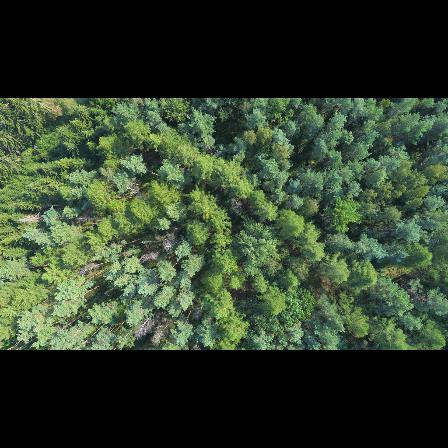Dead: (149, 322, 172, 347), (132, 314, 154, 340), (72, 259, 103, 277), (160, 232, 178, 253)
